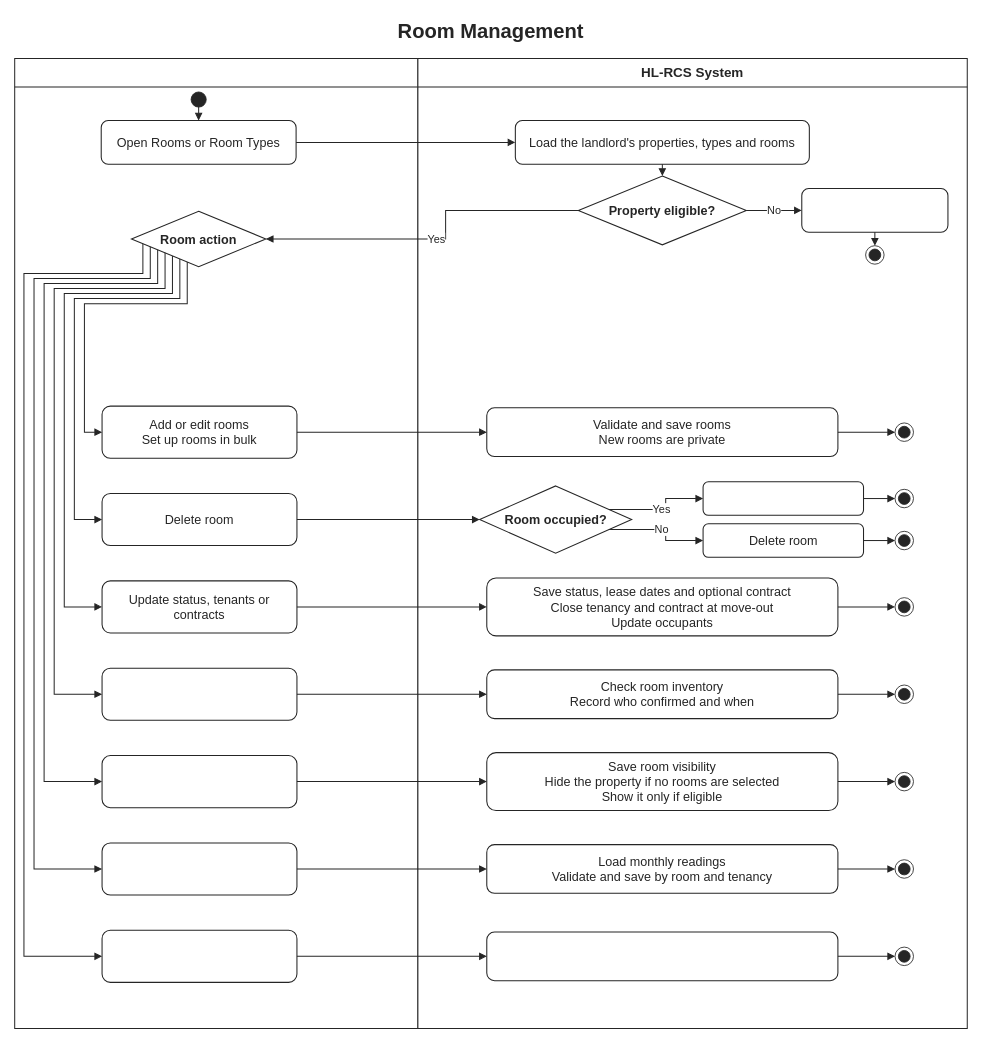
The diagram is 983 pixels wide and 1043 high, and some of its shapes have lost their labels. The shapes that lost their labels are listed below. From the top down, each one's box as (x1, y1, x2, y2) in pixels, then its label:
(801, 188, 948, 232): Show setup help or disable actions
(702, 481, 864, 516): Block deletion
(14, 57, 418, 1029): Landlord
(101, 667, 297, 720): Confirm vacancies by room type
(101, 755, 297, 808): Select rooms to publish
(101, 842, 297, 895): View or enter utility readings
(101, 929, 297, 983): Set billing, issue bills or log payments
(486, 931, 838, 981): Save schedules, draft or issue bills, or record payments
